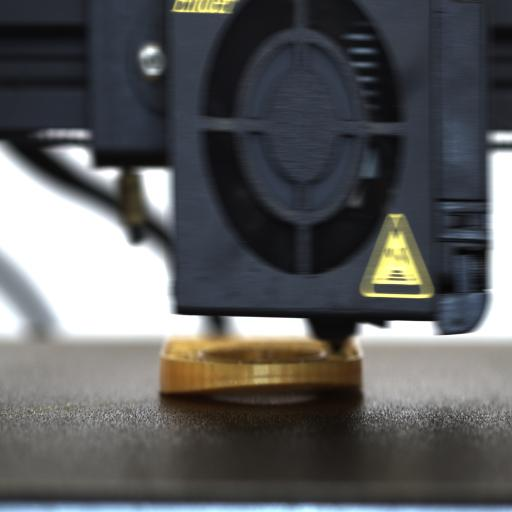warp: (160, 379, 362, 404)
